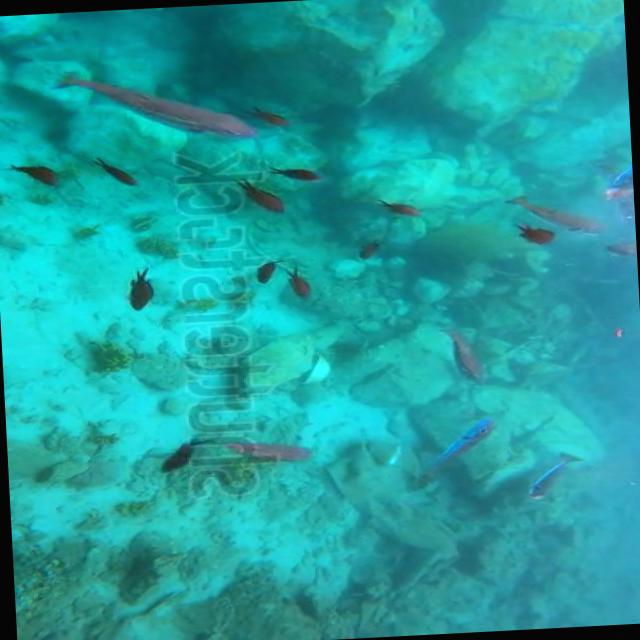Balon Baligi: (48, 59, 256, 146), (163, 422, 328, 482), (496, 184, 606, 240), (425, 413, 503, 473), (510, 452, 584, 504), (438, 321, 492, 388)
